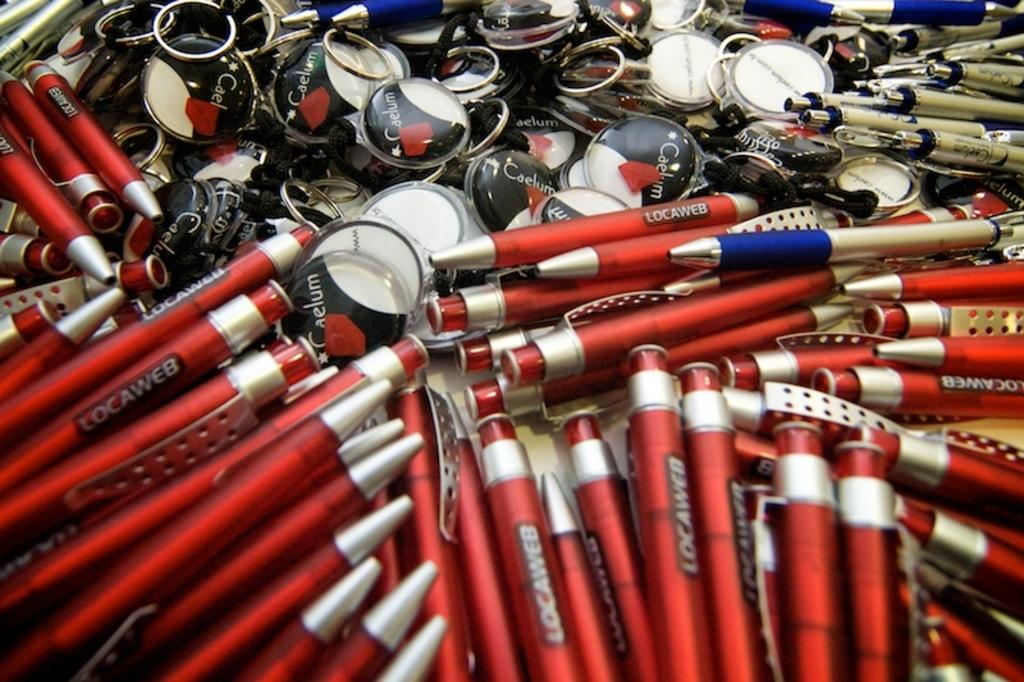pen: (3, 180, 1023, 681), (0, 0, 169, 406), (782, 0, 1023, 180), (326, 0, 488, 32), (717, 0, 868, 24), (278, 0, 346, 29)
